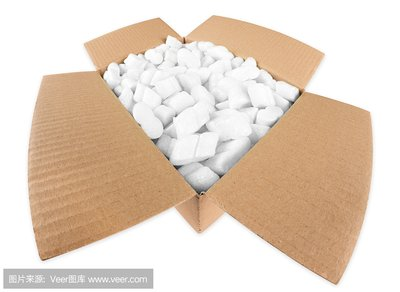5/可回收垃圾/泡沫: (27, 15, 373, 287)
